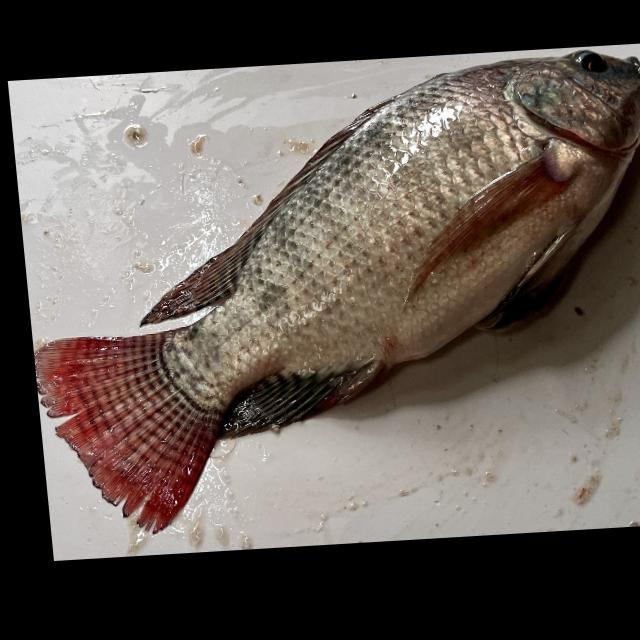Tilapia: (8, 43, 640, 542)
